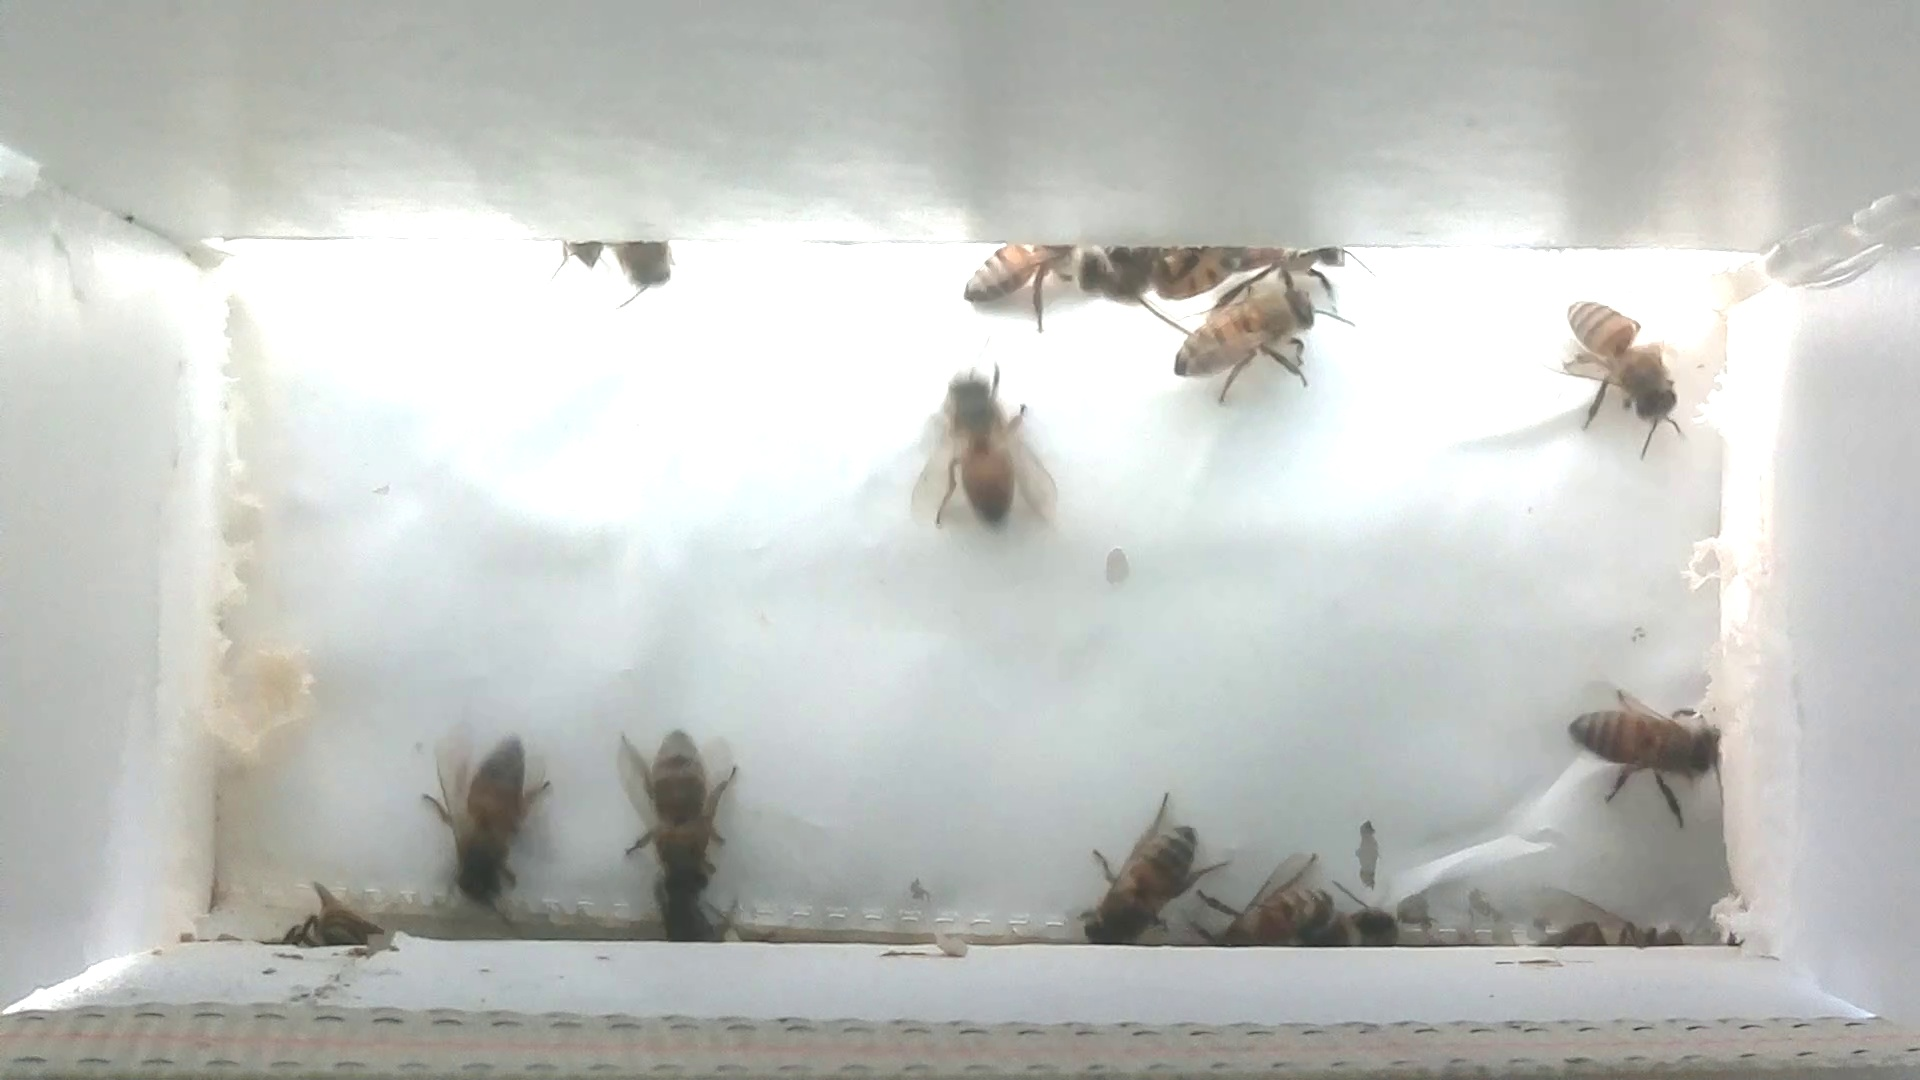bee: (1528, 281, 1710, 469), (400, 705, 563, 910), (608, 717, 766, 924), (1054, 778, 1218, 956), (1553, 680, 1741, 836), (911, 361, 1064, 543), (1164, 264, 1336, 419), (1065, 233, 1259, 316), (1195, 862, 1344, 968), (953, 215, 1080, 335), (270, 874, 384, 964), (597, 225, 696, 314)
